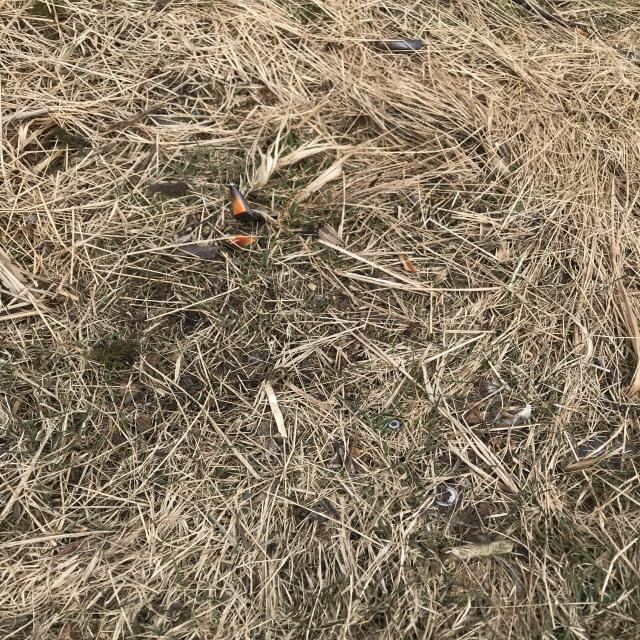litter: (225, 185, 248, 220)
